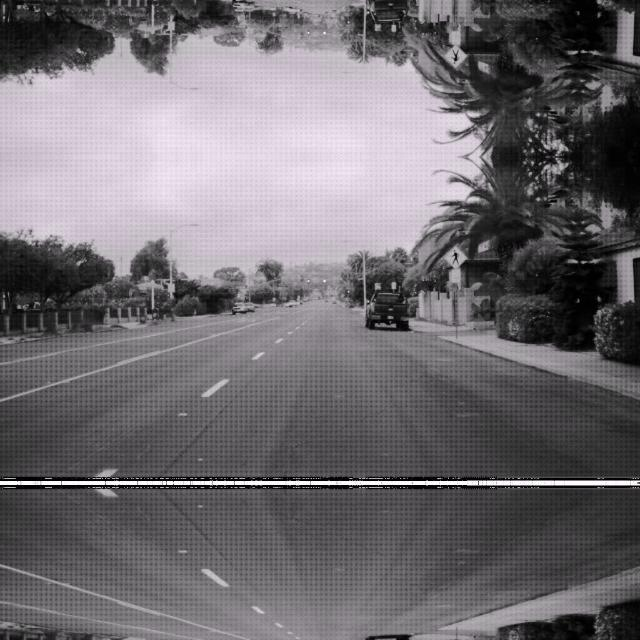pedestrianCrossing: (442, 242, 468, 268), (442, 44, 468, 70)
